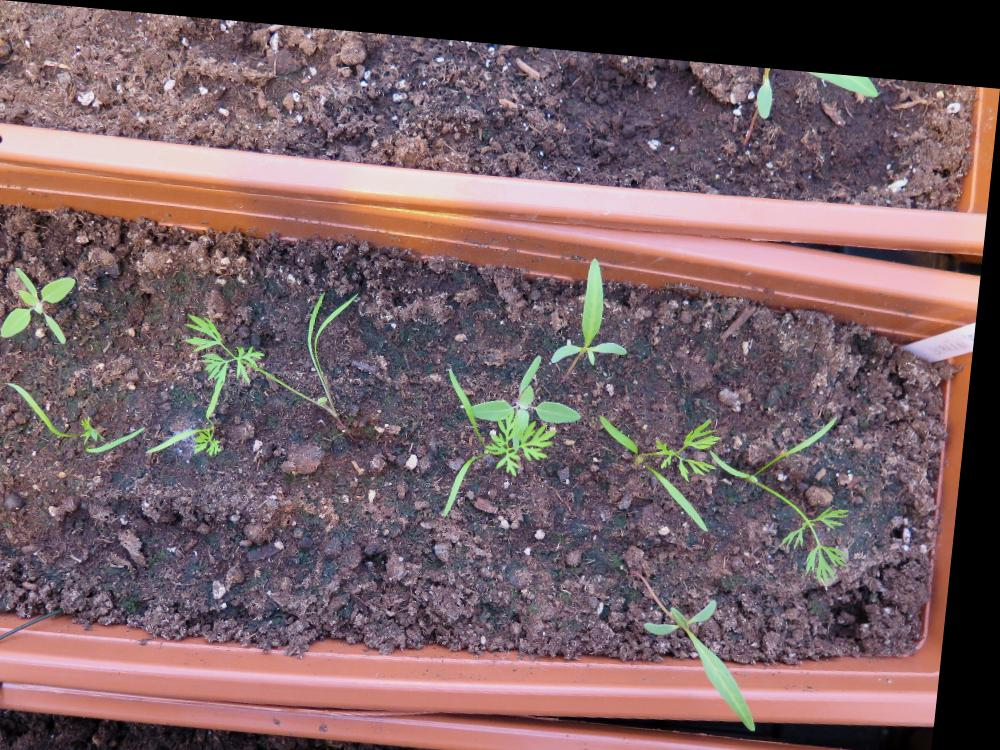crop: (6, 377, 157, 453), (12, 379, 13, 379)
weed: (644, 575, 779, 716), (555, 240, 640, 357), (5, 263, 83, 342)
